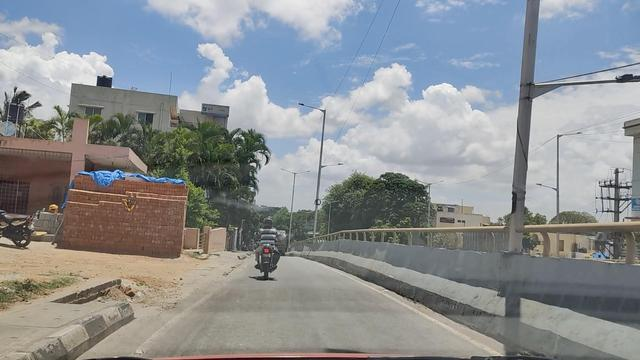LMV: (260, 218, 278, 273)
